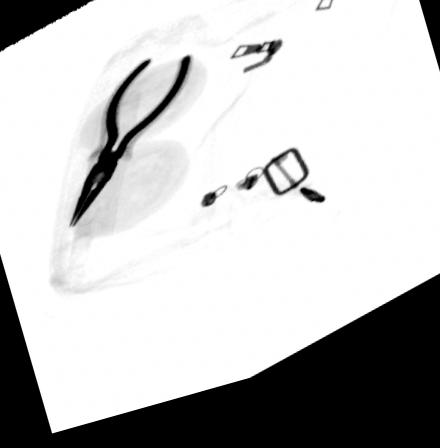Pliers: (67, 65, 193, 232)
